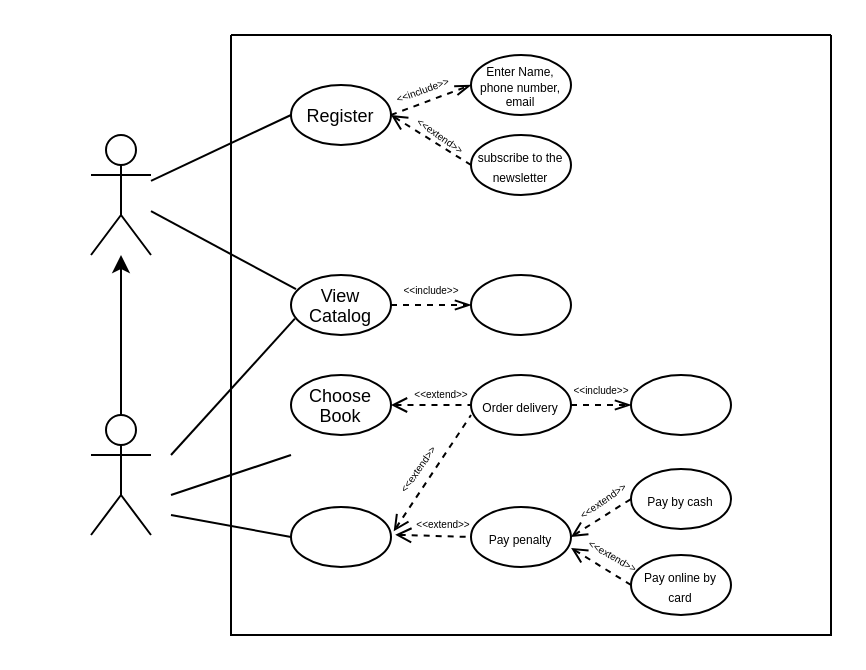
Image size: 866x670. Some labels were removed from this diagram. Each missing label, with the centre of its shape:
Authorized User: the point at 120,474
Check Book availability: the point at 520,304
Enter address, time: the point at 680,404
Return book: the point at 340,536
User: the point at 120,194
